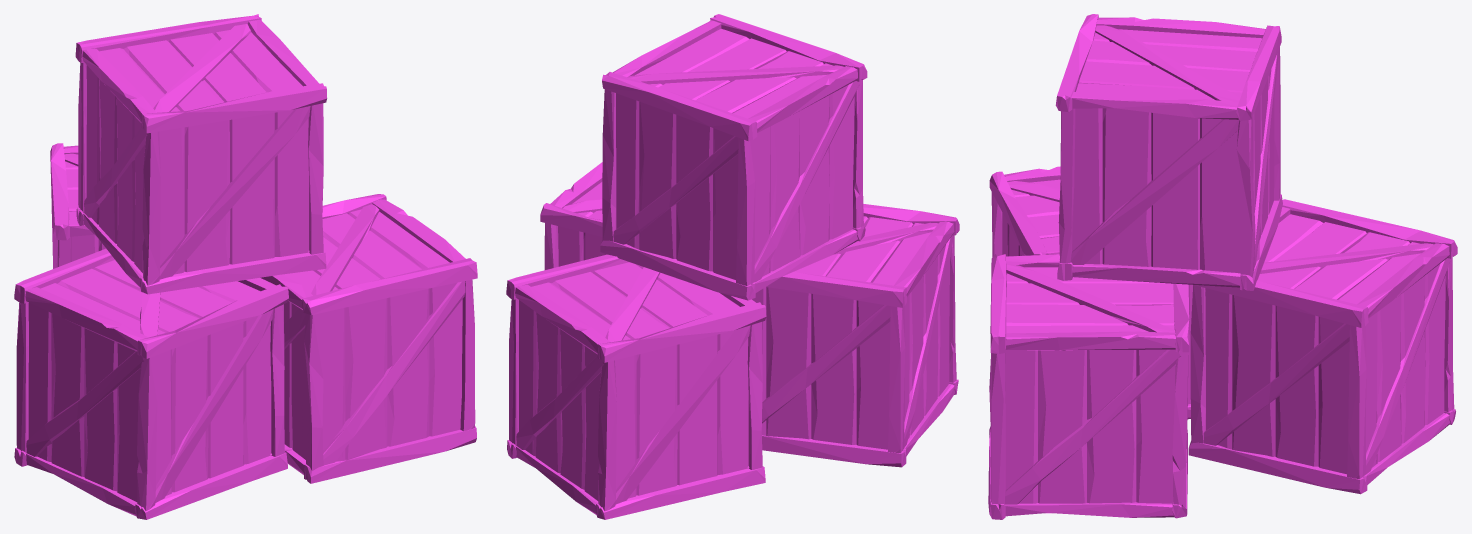
File: SM_Box_Group_Small_Fantasy.fbx
3 renders of one model, left to right at view 1: azimuth 30°, elevation 25°; view 2: azimuth 150°, elevation 25°; view 3: azimuth 270°, elevation 25°, orthographic. The views are drawn at different scales.
Parts seen in each view (by area): view 1: SM_Box_Group_Small_Fantasy; view 2: SM_Box_Group_Small_Fantasy; view 3: SM_Box_Group_Small_Fantasy.
Part boxes in pixels (<box>): SM_Box_Group_Small_Fantasy: <box>14,14,477,519</box>; SM_Box_Group_Small_Fantasy: <box>506,14,959,519</box>; SM_Box_Group_Small_Fantasy: <box>988,14,1457,519</box>.
Size of the model in its own units: 2.15 by 2.02 by 2.33.
